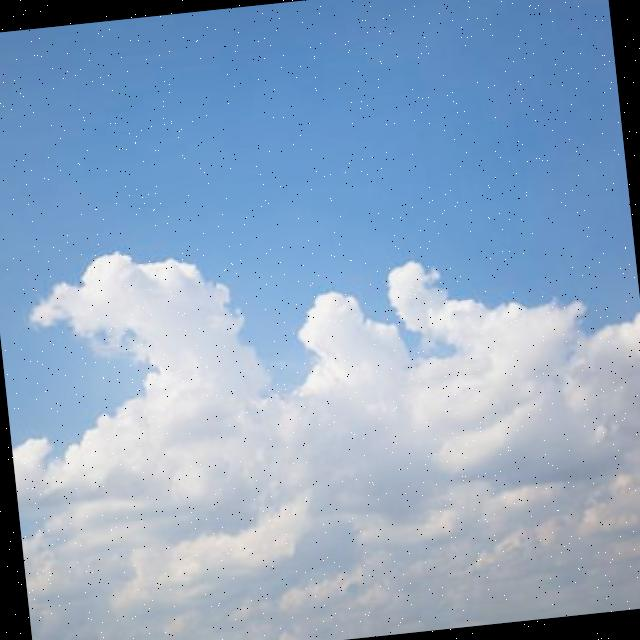Cc: (1, 191, 640, 626)
